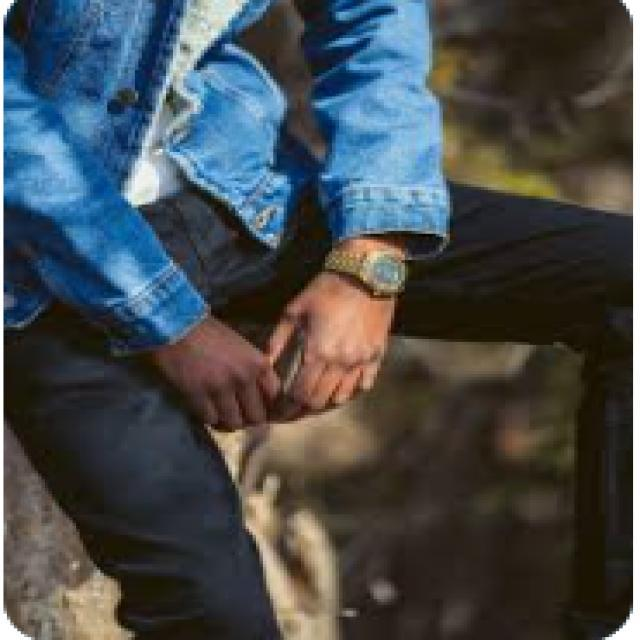Watch: (325, 245, 412, 305)
